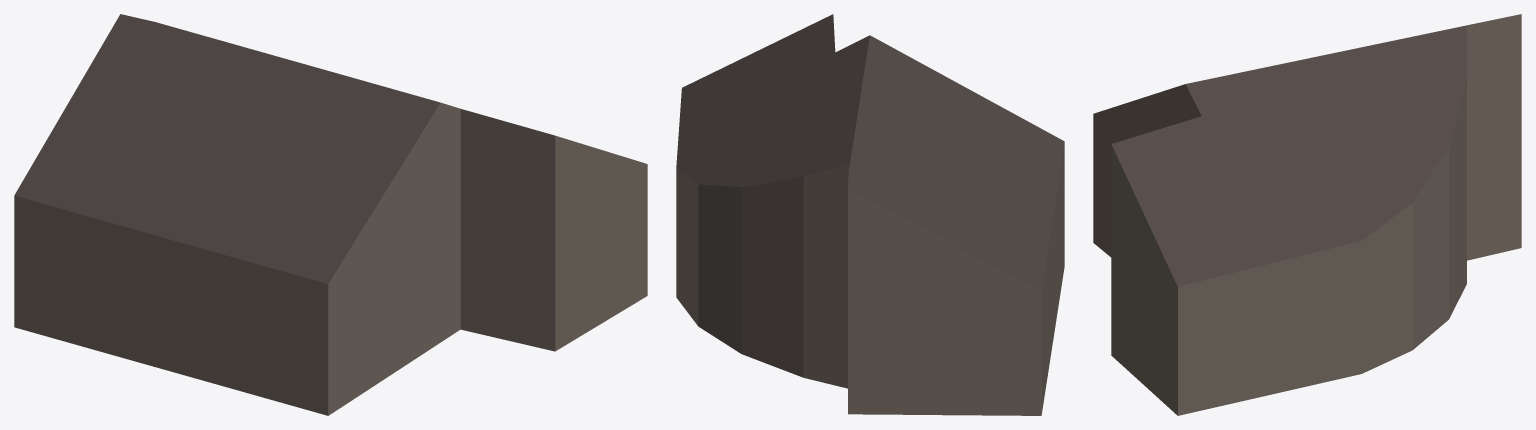
3 views of the same model, side by side, from view 1: azimuth 30°, elevation 25°; view 2: azimuth 150°, elevation 25°; view 3: azimuth 270°, elevation 25° (orthographic). The views are drawn at different scales.
Visible parts, largest first — view 1: HP-w178732945; view 2: HP-w178732945; view 3: HP-w178732945.
Part boxes in pixels (x1,y1,x2,y2): HP-w178732945: (14, 14, 647, 415); HP-w178732945: (676, 14, 1064, 415); HP-w178732945: (1093, 14, 1521, 415).
Bounding box in the file's own units: 24.18 × 10.93 × 18.07.
